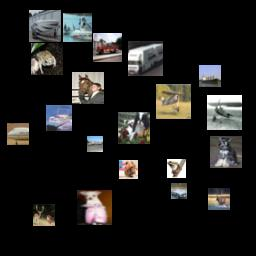airplane: (207, 95, 242, 130), (156, 84, 191, 119), (7, 123, 29, 145)
automobile: (171, 183, 187, 199)
deer: (208, 188, 230, 210), (33, 204, 55, 226)
dog: (77, 190, 112, 225), (118, 112, 150, 144), (210, 136, 242, 168), (119, 160, 138, 179)
frog: (31, 43, 63, 75), (167, 159, 186, 178)
ship: (29, 10, 61, 42), (63, 13, 92, 42), (46, 105, 72, 131), (199, 65, 221, 87)
truck: (128, 41, 163, 76), (93, 33, 122, 62), (87, 136, 103, 152)
